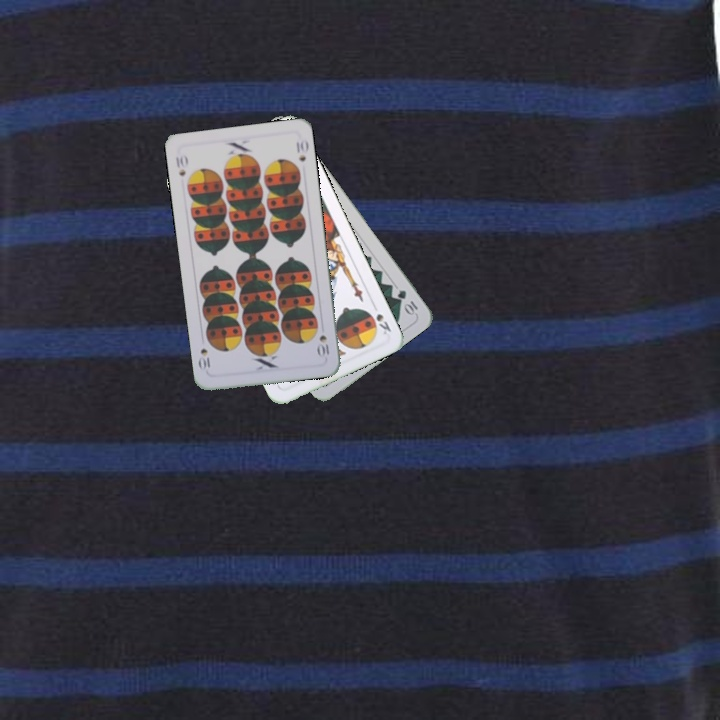G10: (393, 286, 420, 318)
S10: (314, 331, 332, 358), (172, 151, 190, 178)
SK: (368, 299, 394, 337)
